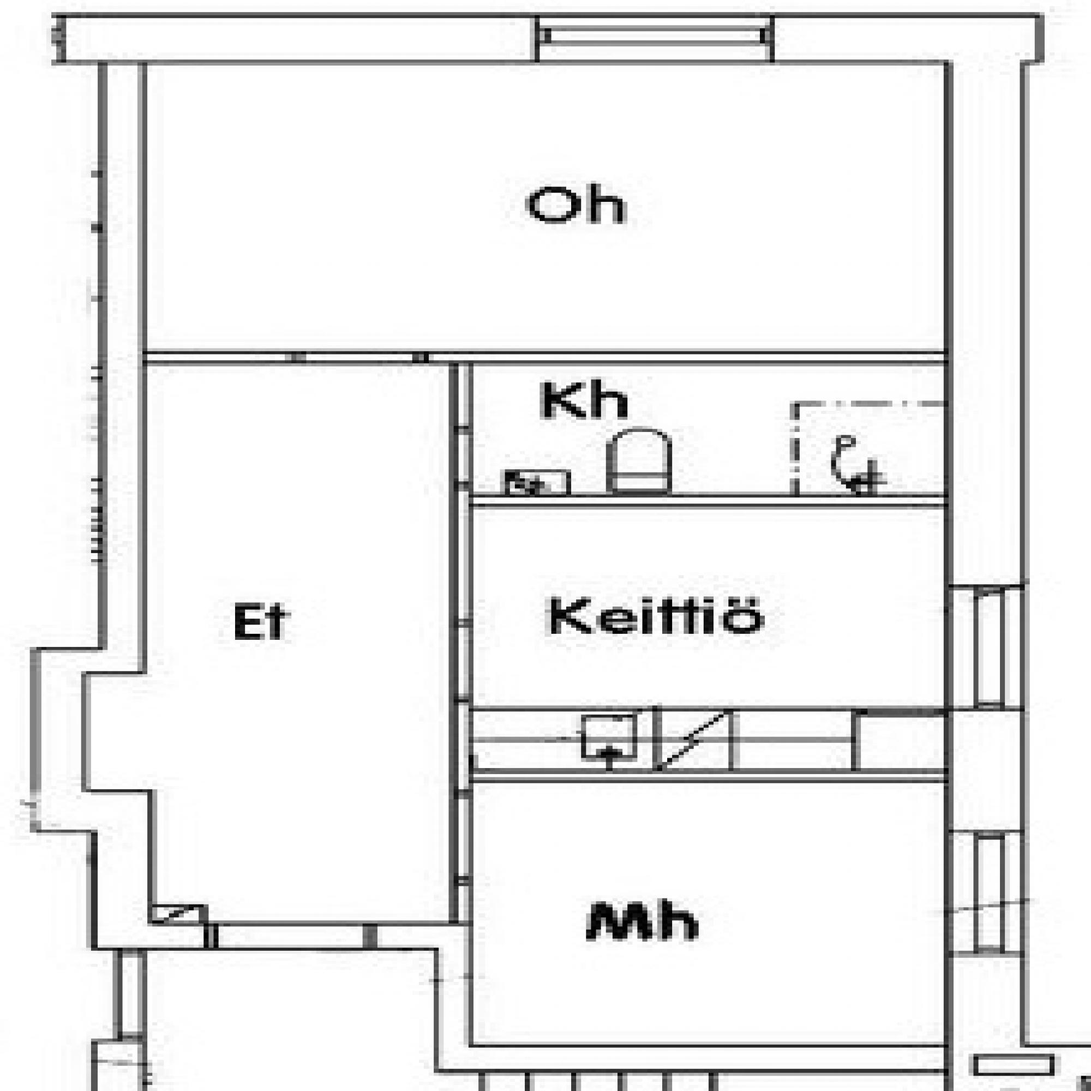wall: (953, 17, 1029, 1071), (100, 16, 1029, 62), (100, 16, 145, 674), (437, 1046, 1030, 1071), (456, 352, 476, 925), (95, 925, 476, 953), (34, 647, 82, 833), (96, 791, 151, 953), (456, 352, 1029, 364), (456, 494, 1029, 506), (456, 770, 1029, 782), (436, 925, 476, 1072), (33, 791, 151, 833), (100, 352, 476, 364), (34, 647, 145, 674)
